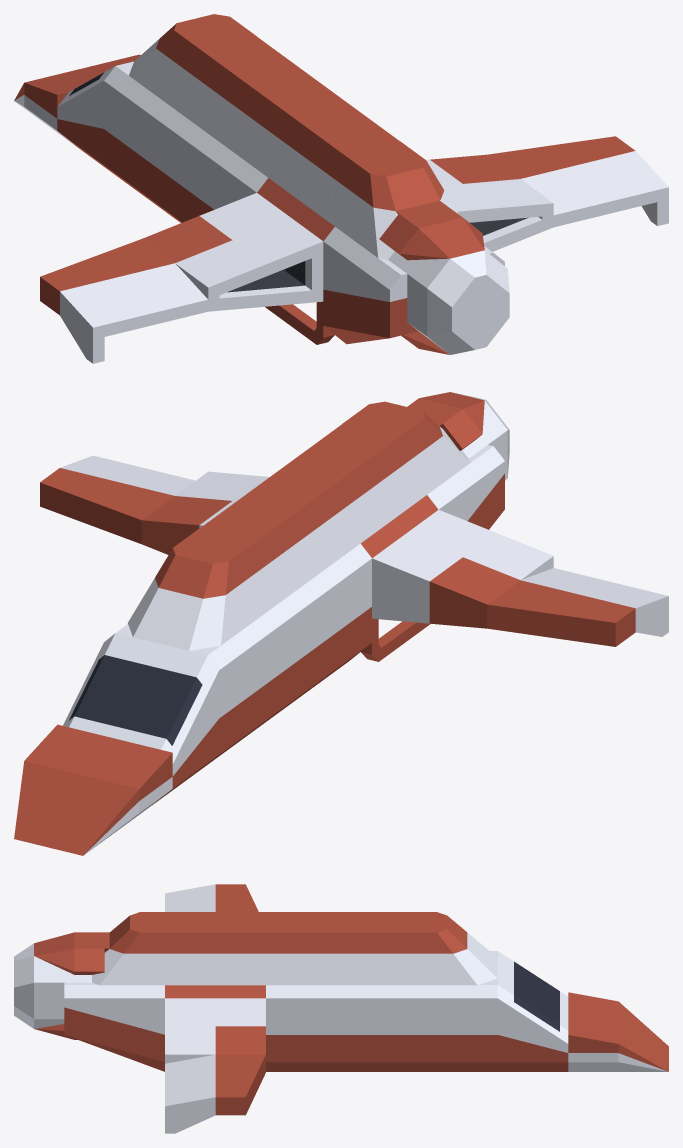
The model's file is base_ship.glb.
3 views of the same model, one above another, from view 1: azimuth 30°, elevation 25°; view 2: azimuth 150°, elevation 25°; view 3: azimuth 270°, elevation 25° (orthographic). The views are drawn at different scales.
Visible parts, largest first — view 1: mergedBlocks(Clone); view 2: mergedBlocks(Clone); view 3: mergedBlocks(Clone).
Part boxes in pixels (x1,y1,x2,y2): mergedBlocks(Clone): [14, 14, 668, 363]; mergedBlocks(Clone): [14, 392, 668, 855]; mergedBlocks(Clone): [14, 884, 668, 1133].
Bounding box in the file's own units: 5 × 1.5 × 6.5.
1 material, 1 textured.
